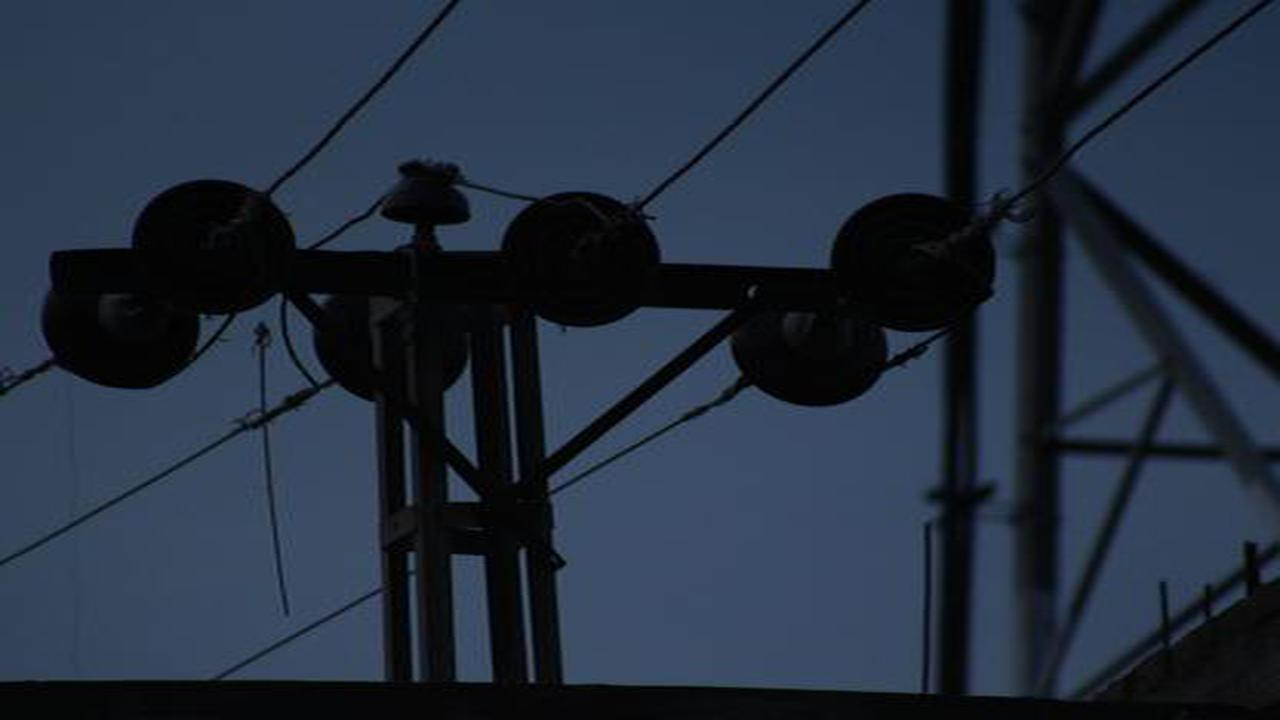insulator_disc: (828, 188, 1001, 334), (494, 187, 666, 329), (128, 176, 298, 315), (32, 267, 214, 396), (723, 283, 897, 406)
insulator_pin: (378, 152, 475, 231)
